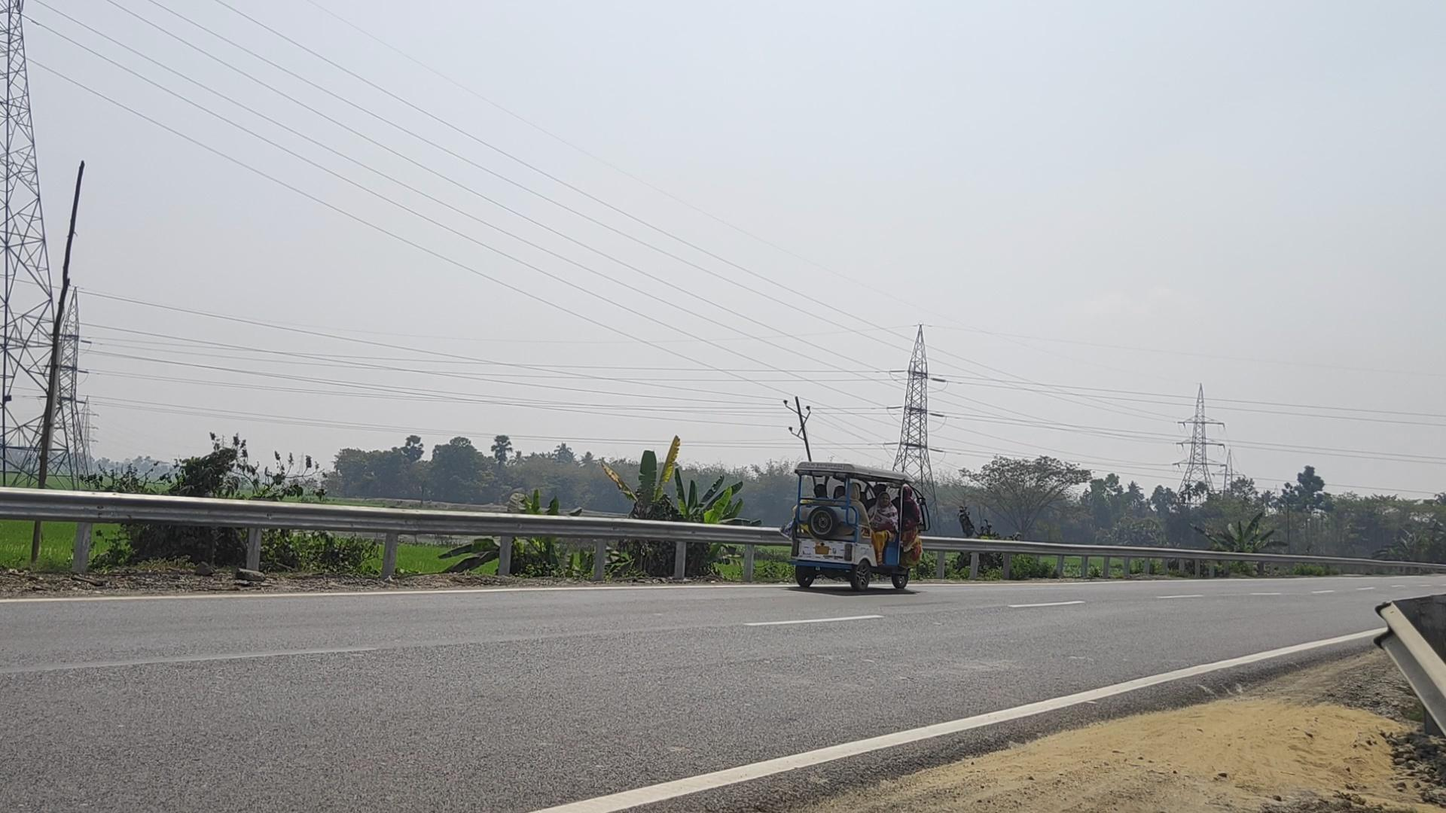Auto: (787, 461, 931, 592)
